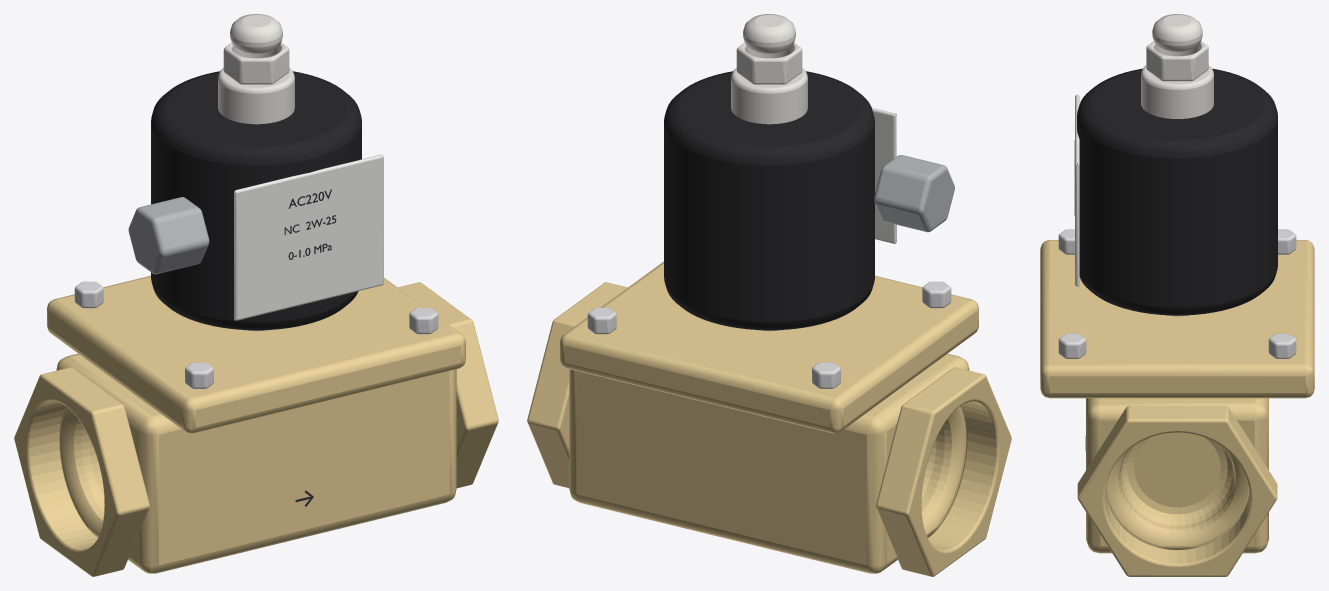
The model's file is solenoid_valve.glb.
The picture shows the model from 3 angles, left to right: view 1: azimuth 30°, elevation 25°; view 2: azimuth 150°, elevation 25°; view 3: azimuth 270°, elevation 25°; orthographic projection. The views are drawn at different scales.
Visible parts, largest first — view 1: body, coil, bonnet, nut, tube; view 2: body, coil, bonnet, nut, tube; view 3: coil, body, bonnet, nut, tube.
Part boxes in pixels (x1,y1,x2,y2): body: (14, 282, 498, 576); coil: (128, 71, 383, 330); bonnet: (47, 275, 465, 433); nut: (223, 14, 289, 84); tube: (218, 68, 294, 331); body: (527, 282, 1011, 576); coil: (664, 71, 954, 330); bonnet: (560, 261, 978, 433); nut: (736, 14, 802, 84); tube: (731, 68, 807, 331); coil: (1074, 68, 1277, 315); body: (1077, 398, 1277, 576); bonnet: (1040, 229, 1314, 398); nut: (1146, 14, 1208, 81); tube: (1141, 65, 1213, 316).
Bounding box in the file's own units: 0.092 × 0.1131 × 0.06.
